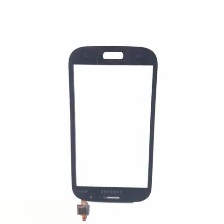phone: (66, 41, 160, 209)
